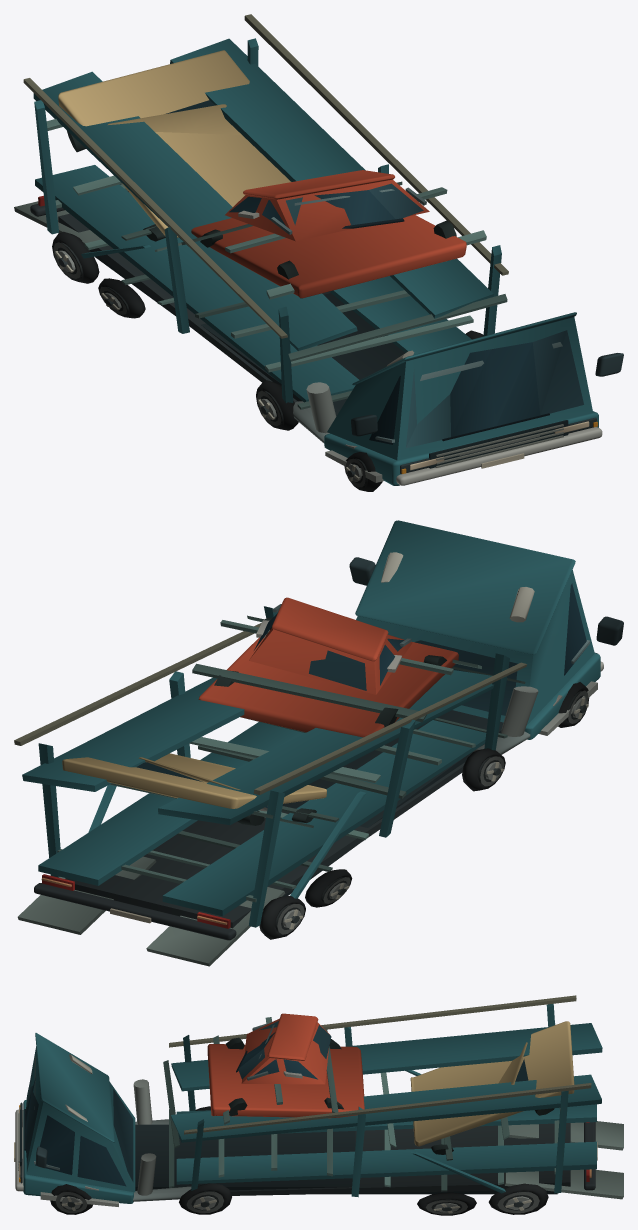
Rendered from carrier.glb.
3 views of the same model, one above another, from view 1: azimuth 30°, elevation 25°; view 2: azimuth 150°, elevation 25°; view 3: azimuth 270°, elevation 25° (orthographic). The views are drawn at different scales.
Parts seen in each view (by area): view 1: carrier_body; view 2: carrier_body; view 3: carrier_body.
Boxes of the visible parts, box(x1,y1,x2,y2) form: carrier_body: box(14, 14, 623, 491); carrier_body: box(14, 520, 623, 966); carrier_body: box(14, 995, 623, 1215).
Bounding box in the file's own units: 3.16 × 2.04 × 7.95.
